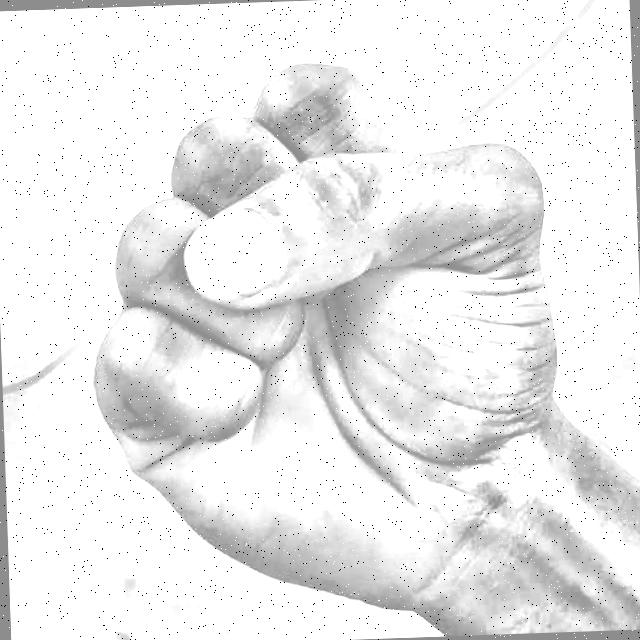Sha: (59, 39, 603, 636)
